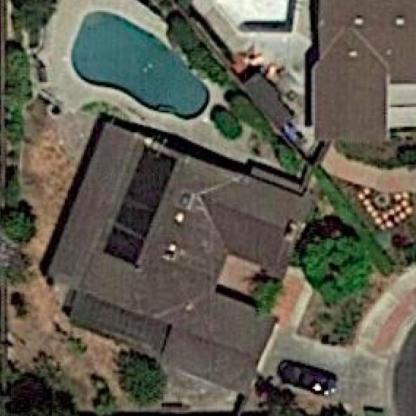car: (275, 357, 340, 397)
solar_panel: (101, 136, 182, 266)
swimming_pool: (62, 3, 219, 125)
